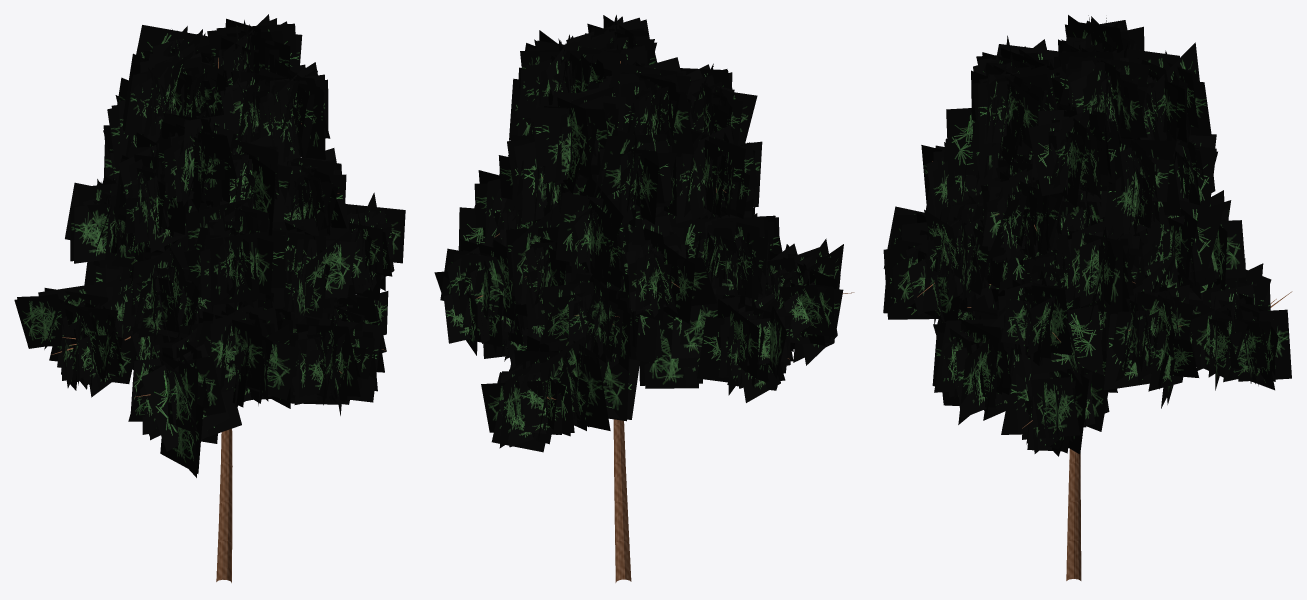
Rendered from Pine_Dense_LOD0.glb.
3 views of the same model, side by side, from view 1: azimuth 30°, elevation 25°; view 2: azimuth 150°, elevation 25°; view 3: azimuth 270°, elevation 25° (orthographic).
Parts seen in each view (by area): view 1: Leaves_04, Leaves_01, Leaves_14, Leaves_06, Leaves_24, Leaves_03, Leaves_25, Leaves_22, Leaves_11, Leaves_09, Leaves_17, Leaves_12 (+10 smaller); view 2: Leaves_02, Leaves_04, Leaves_07, Leaves_05, Leaves_23, Leaves_01, Leaves_12, Leaves_17, Leaves_15, Leaves_09, Leaves_25, Leaves_20 (+12 smaller); view 3: Leaves_02, Leaves_05, Leaves_08, Leaves_00, Leaves_03, Leaves_21, Leaves_13, Leaves_24, Leaves_16, Leaves_26, Leaves_11, Leaves_18 (+11 smaller).
Boxes of the visible parts, bbox=[...] form: Leaves_04: bbox=[14, 264, 159, 397]; Leaves_01: bbox=[128, 323, 241, 477]; Leaves_14: bbox=[184, 197, 285, 314]; Leaves_06: bbox=[190, 293, 299, 407]; Leaves_24: bbox=[220, 58, 330, 164]; Leaves_03: bbox=[261, 308, 381, 415]; Leaves_25: bbox=[123, 33, 228, 143]; Leaves_22: bbox=[155, 102, 240, 211]; Leaves_11: bbox=[271, 218, 357, 322]; Leaves_09: bbox=[122, 235, 211, 346]; Leaves_17: bbox=[114, 132, 199, 252]; Leaves_12: bbox=[65, 176, 174, 267]; Leaves_02: bbox=[481, 336, 640, 452]; Leaves_04: bbox=[639, 288, 792, 402]; Leaves_07: bbox=[539, 268, 662, 370]; Leaves_05: bbox=[434, 239, 548, 355]; Leaves_23: bbox=[532, 80, 625, 194]; Leaves_01: bbox=[745, 238, 843, 365]; Leaves_12: bbox=[623, 211, 717, 323]; Leaves_17: bbox=[655, 125, 758, 223]; Leaves_15: bbox=[555, 177, 645, 289]; Leaves_09: bbox=[672, 206, 768, 304]; Leaves_25: bbox=[602, 57, 694, 156]; Leaves_20: bbox=[584, 130, 676, 225]; Leaves_02: bbox=[1161, 258, 1291, 408]; Leaves_05: bbox=[1098, 255, 1198, 391]; Leaves_08: bbox=[1000, 248, 1102, 385]; Leaves_00: bbox=[1001, 350, 1117, 456]; Leaves_03: bbox=[932, 288, 1022, 424]; Leaves_21: bbox=[1028, 103, 1125, 207]; Leaves_13: bbox=[1047, 201, 1145, 322]; Leaves_24: bbox=[969, 61, 1063, 165]; Leaves_16: bbox=[979, 155, 1079, 263]; Leaves_26: bbox=[1058, 48, 1150, 145]; Leaves_11: bbox=[924, 194, 1041, 302]; Leaves_18: bbox=[1078, 138, 1181, 236].
Size of the model in its own units: 11.86 by 17.46 by 11.77.
Materials: 2 (2 with a texture image).
